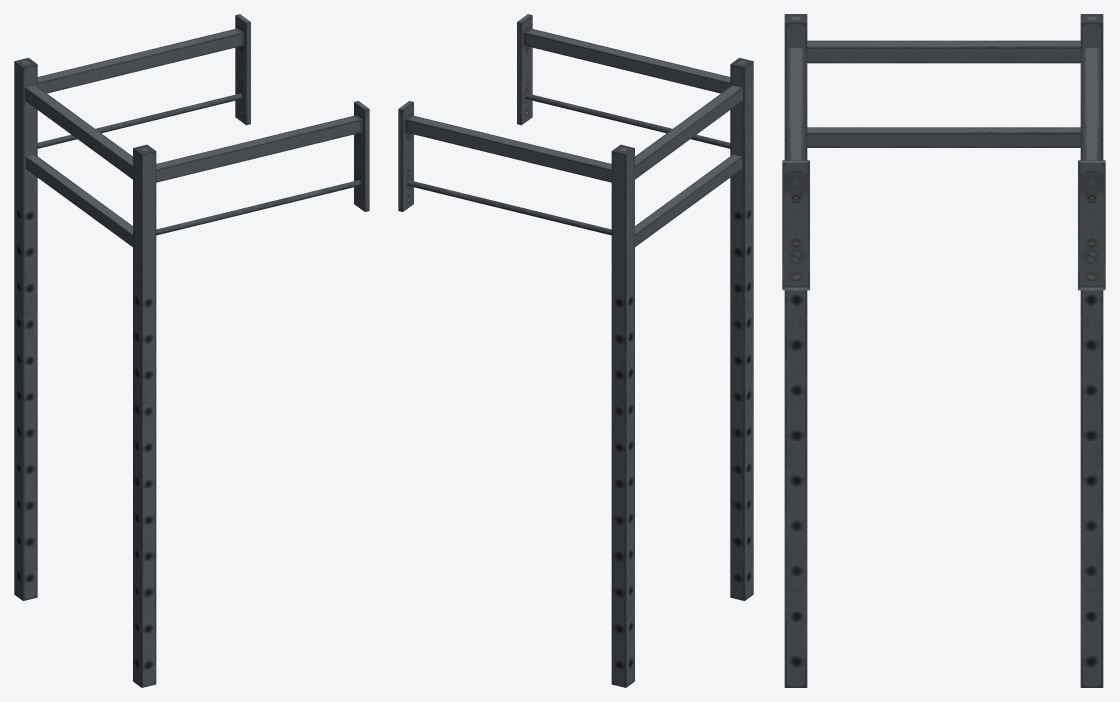
File: MB_Horizontal_Bar_03.fbx
3 views of the same model, side by side, from view 1: azimuth 30°, elevation 25°; view 2: azimuth 150°, elevation 25°; view 3: azimuth 270°, elevation 25° (orthographic). The views are drawn at different scales.
Parts seen in each view (by area): view 1: MB_Horizontal_Bar_03; view 2: MB_Horizontal_Bar_03; view 3: MB_Horizontal_Bar_03.
Boxes of the visible parts, x1,y1,x2,y2 form: MB_Horizontal_Bar_03: [14, 14, 369, 687]; MB_Horizontal_Bar_03: [398, 14, 753, 687]; MB_Horizontal_Bar_03: [782, 14, 1105, 687].
Size of what is drawn, in the model's own units: 120 by 271 by 119.
